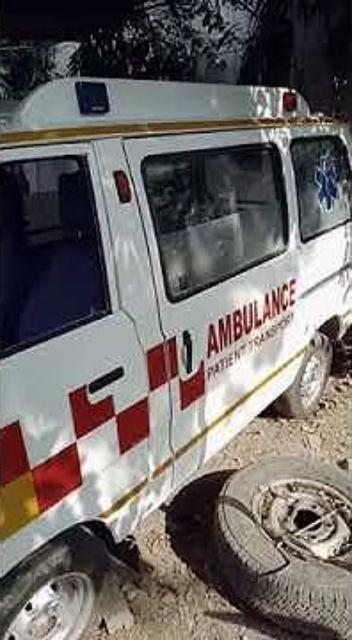ambulance: (0, 78, 350, 638)
